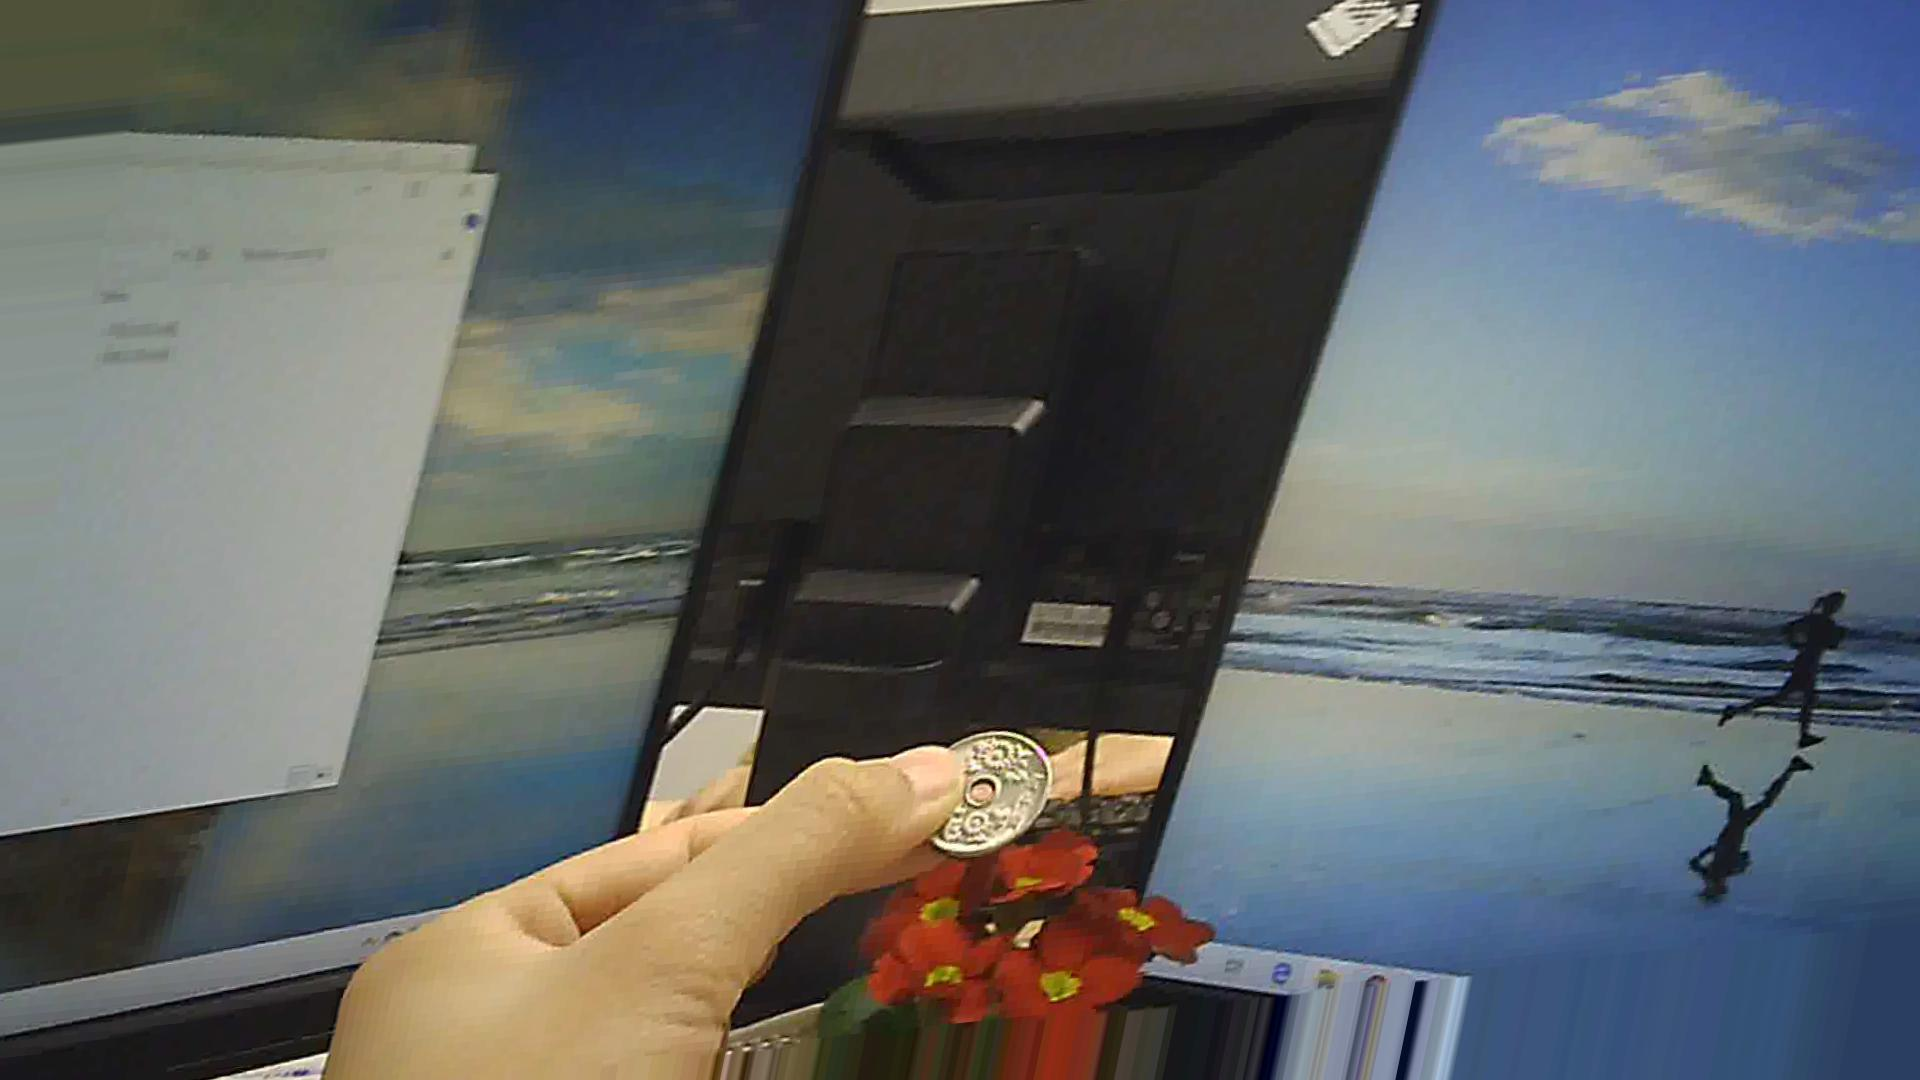50 Yen: (884, 713, 1065, 869)
